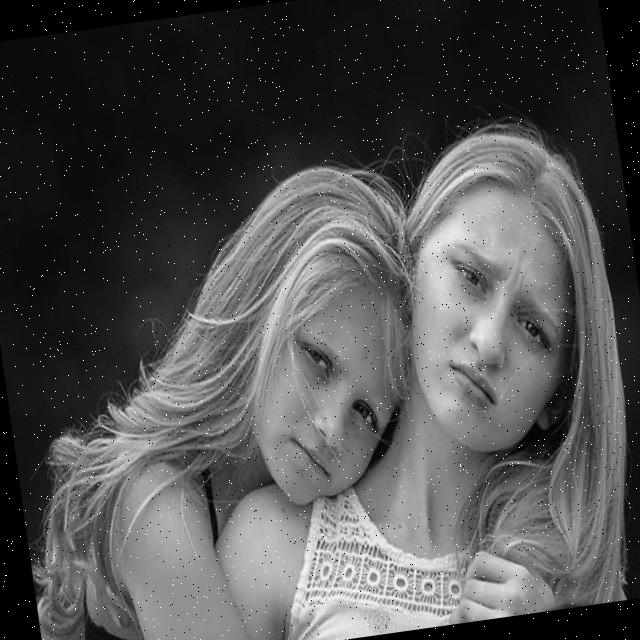Sadness: (396, 182, 590, 460), (241, 284, 407, 510)
